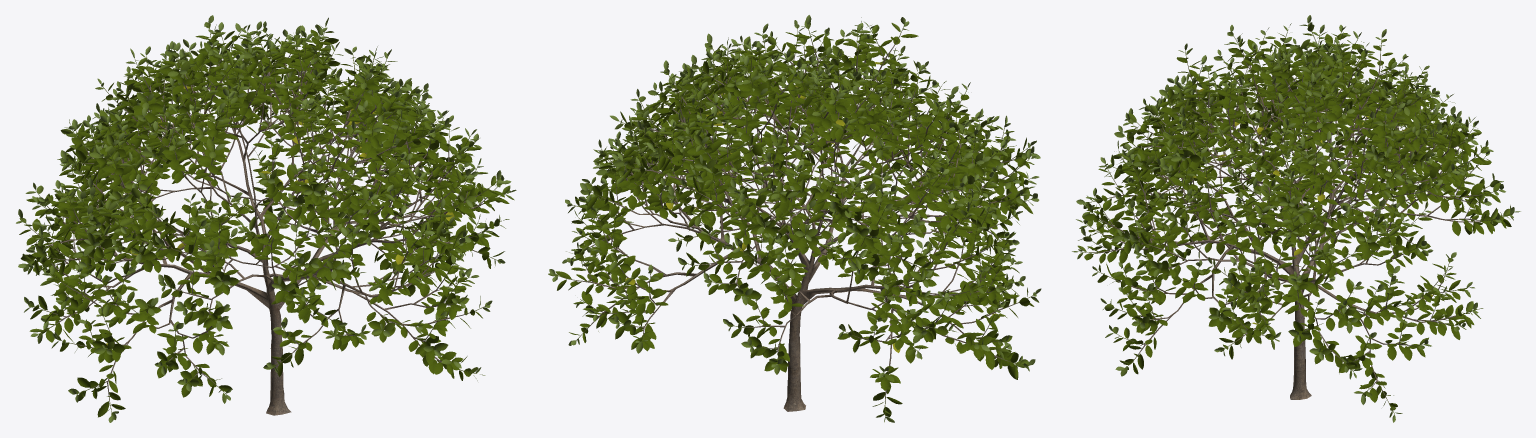
Rendered from Citrus x limon HD_Standard leaves only mat 25_LOD1.fbx.
3 views of the same model, side by side, from view 1: azimuth 30°, elevation 25°; view 2: azimuth 150°, elevation 25°; view 3: azimuth 270°, elevation 25° (orthographic). The views are drawn at different scales.
Visible parts, largest first — view 1: Citrus_x_limon_HD; view 2: Citrus_x_limon_HD; view 3: Citrus_x_limon_HD.
Boxes of the visible parts, x1,y1,x2,y2 form: Citrus_x_limon_HD: [16, 15, 516, 422]; Citrus_x_limon_HD: [548, 15, 1041, 422]; Citrus_x_limon_HD: [1072, 15, 1520, 422].
Size of the model in its own units: 2.98 by 2.31 by 2.79.
7 materials, 7 textured.
